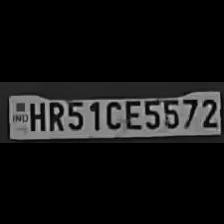1: (86, 98, 102, 130)
2: (198, 95, 218, 127)
5: (64, 98, 84, 130), (142, 96, 160, 128), (161, 96, 179, 128)
7: (180, 95, 196, 127)
C: (102, 97, 122, 129)
E: (123, 97, 141, 128)
H: (27, 98, 46, 130)
R: (45, 98, 63, 130)
